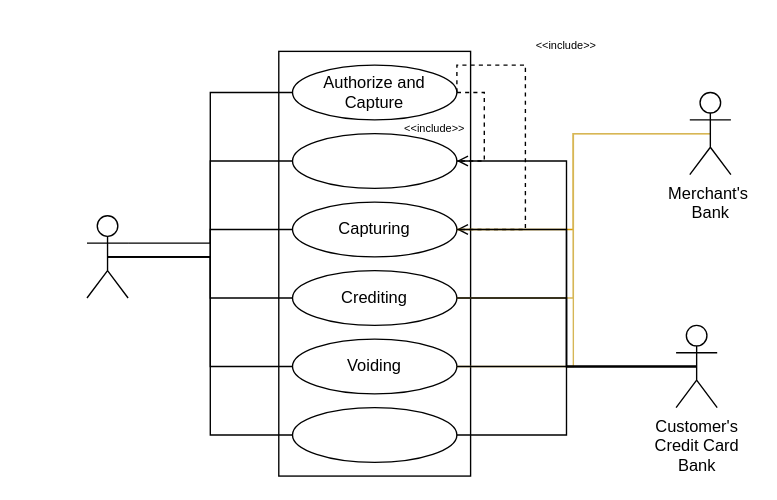
The diagram is 777 pixels wide and 500 high, and some of its shapes have lost their labels. Each missing label, with the box of its shape:
Authorizing: (291, 132, 457, 188)
Merchant's Credit Card Payment Processing System: (86, 214, 128, 298)
Verifying: (291, 406, 457, 462)
